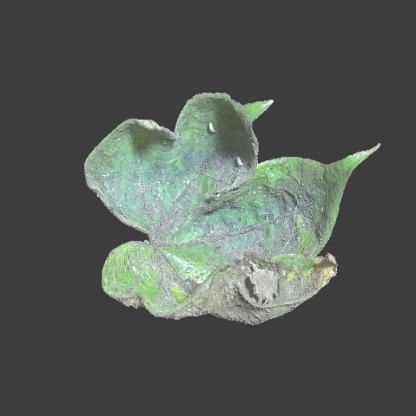curl_stage2: (131, 120, 182, 166)
sooty: (204, 182, 305, 258), (104, 167, 186, 233), (205, 256, 291, 310), (140, 232, 210, 284), (187, 117, 251, 168), (301, 166, 348, 195)
